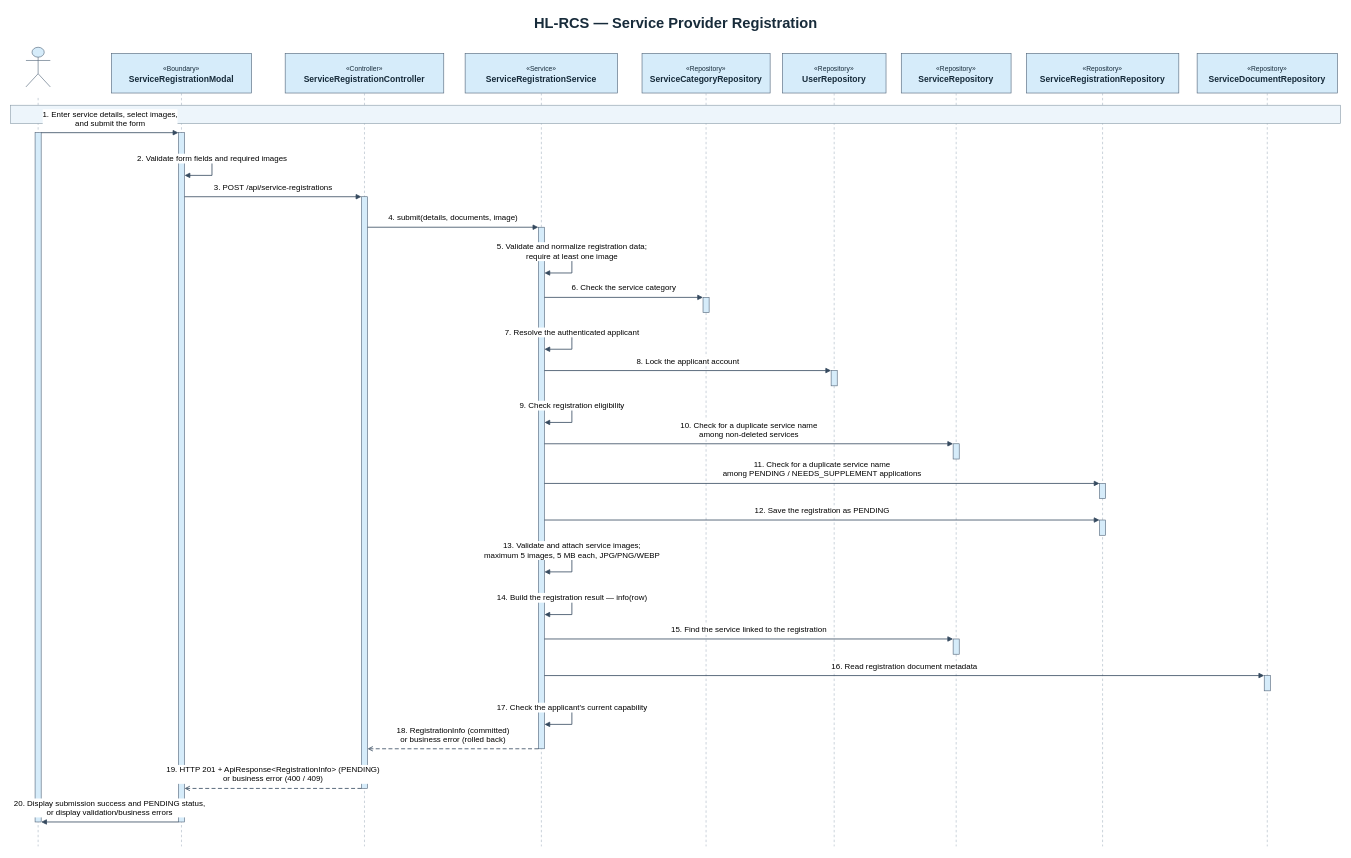
Image size: 1351x858. Some labels were removed from this diagram. The shapes that lost their labels are listed below. From the top down, each one's centre as x and y in pixels, then its label:
pixel 37 67: USER
pixel 675 114: B. Submit a service registration
